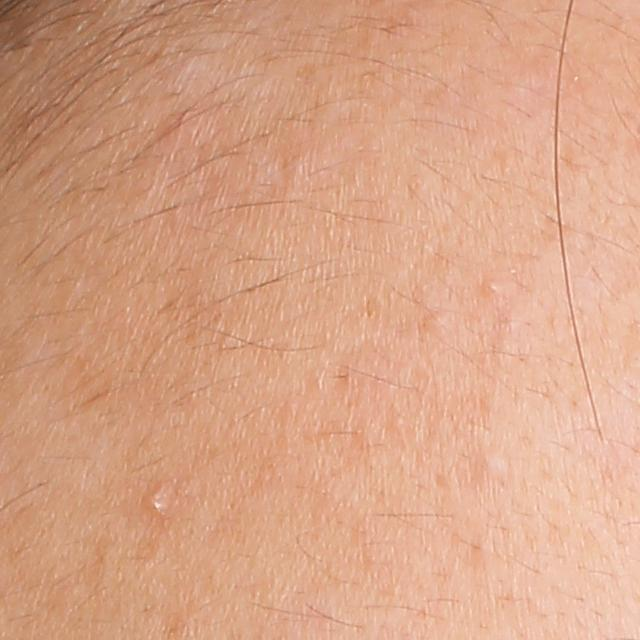comedo: (147, 486, 177, 519), (422, 311, 448, 335), (483, 279, 504, 296)
